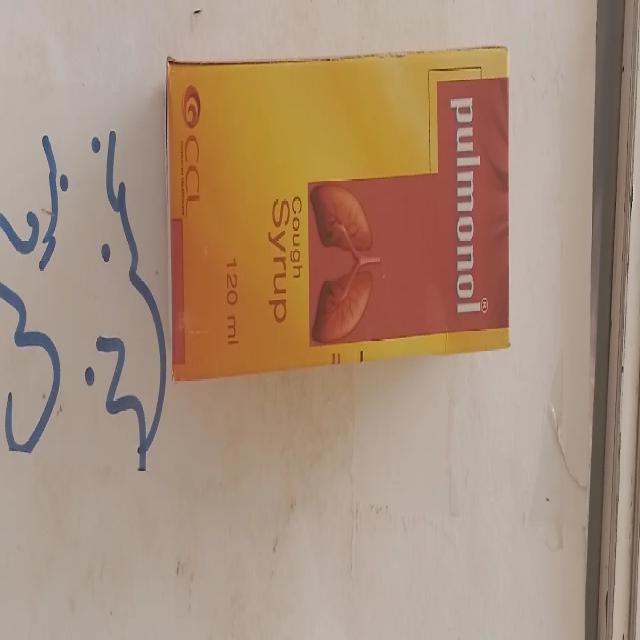drug-name: (446, 89, 488, 322)
